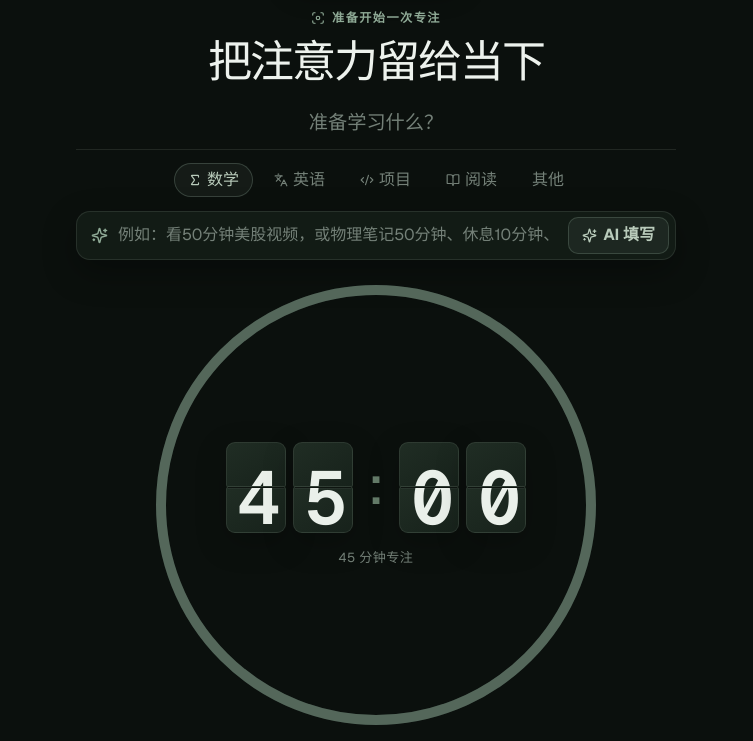
FocusTimer unified AI input › rejects a late AI result if the user starts while parsing
Type "物理笔记50分钟，休息10分钟，4轮" into the field named "用自然语言设置计时器" at (338, 235), box [118,223,558,247]
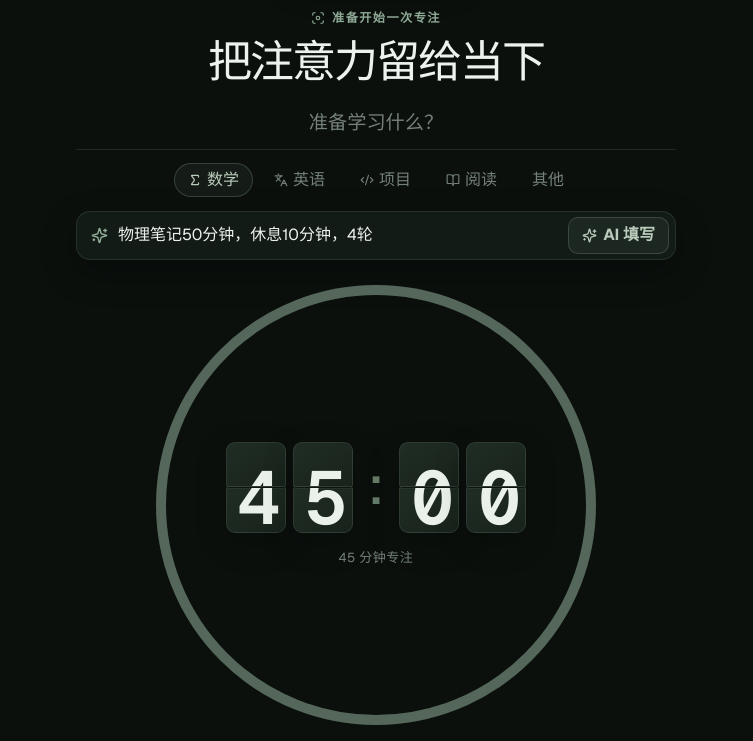
Click the button "AI 填写" at (619, 235), box [568,217,669,254]
(page scrolled)
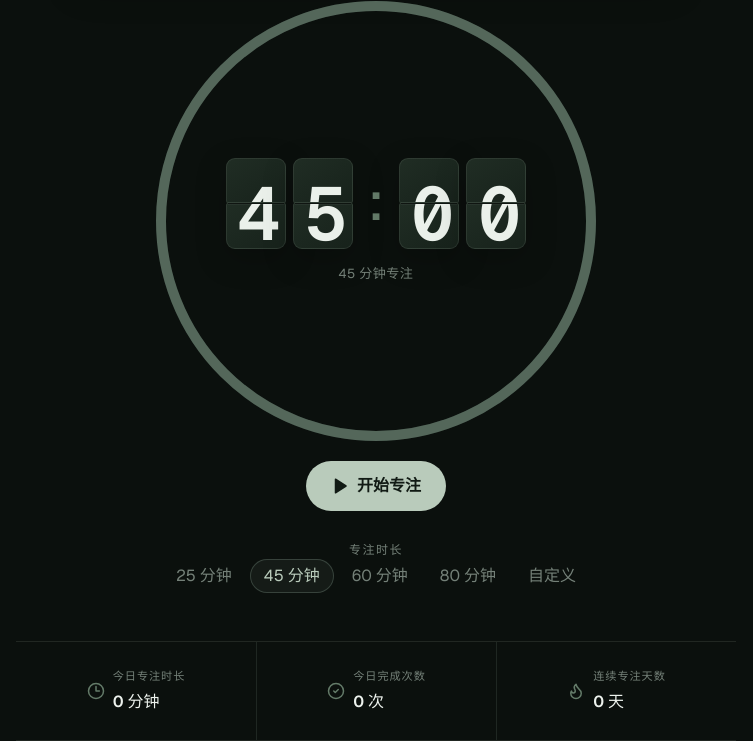
Click the button "开始专注" at (376, 486), box [306,461,446,511]
(page scrolled)
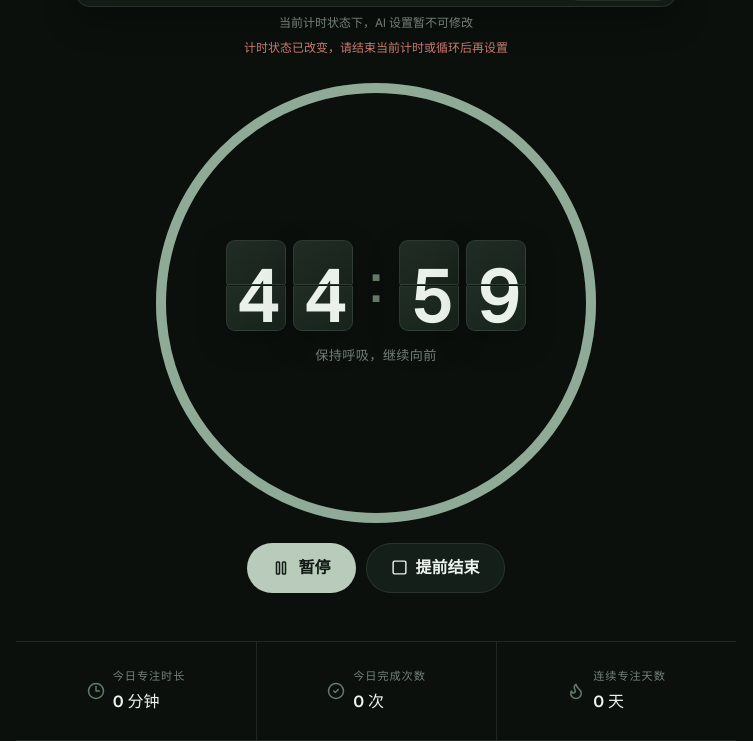
Expected: the message shows "计时状态已改变", [244,40,508,56]
Expected: the button "暂停" is shown, [248,543,356,593]
